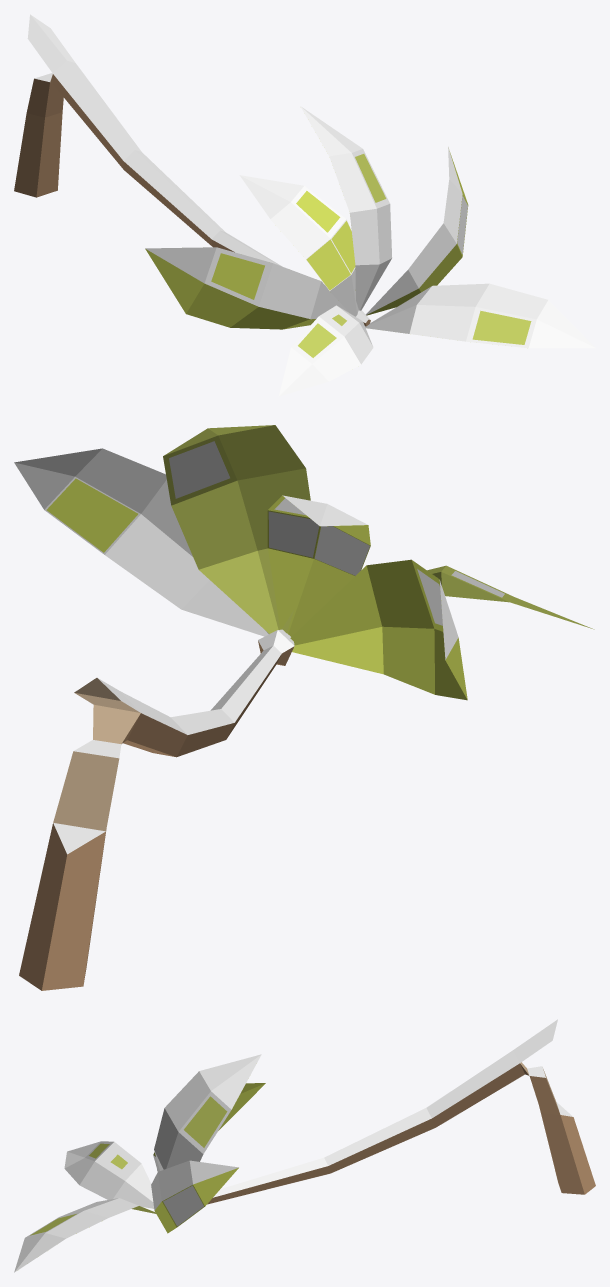
The model's file is Palm_Tree_crk_m_Snow_BT_02.fbx.
3 renders of one model, top to bottom at view 1: azimuth 30°, elevation 25°; view 2: azimuth 150°, elevation 25°; view 3: azimuth 270°, elevation 25°, orthographic. The views are drawn at different scales.
Parts seen in each view (by area): view 1: Palm_Tree_crk_m_Snow_BT_02; view 2: Palm_Tree_crk_m_Snow_BT_02; view 3: Palm_Tree_crk_m_Snow_BT_02.
Part boxes in pixels (box(x1,y1,x2,y2)): Palm_Tree_crk_m_Snow_BT_02: box(14, 14, 595, 396); Palm_Tree_crk_m_Snow_BT_02: box(14, 425, 594, 990); Palm_Tree_crk_m_Snow_BT_02: box(14, 1019, 595, 1272).
Size of the model in its own units: 320 by 194 by 605.
